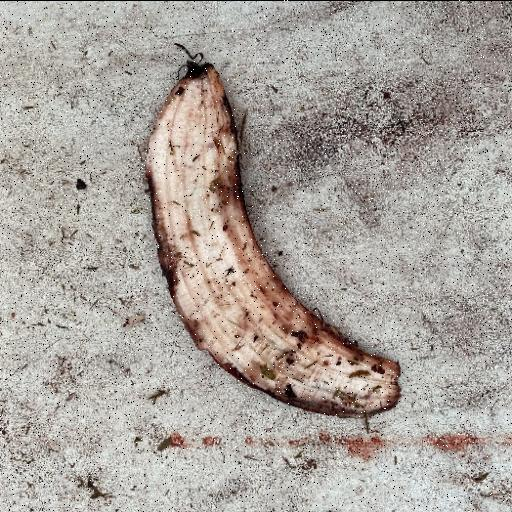Waste: (142, 44, 402, 422)
